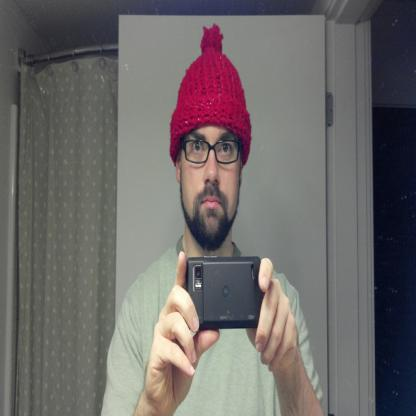Camera: (187, 253, 263, 331)
